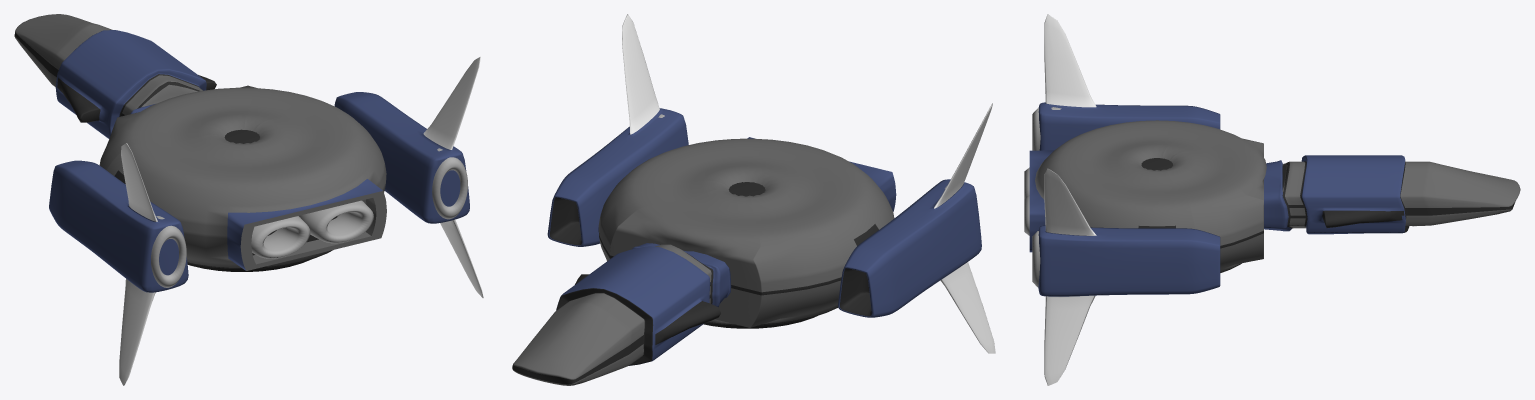
The model's file is nave_boss.fbx.
3 renders of one model, left to right at view 1: azimuth 30°, elevation 25°; view 2: azimuth 150°, elevation 25°; view 3: azimuth 270°, elevation 25°, orthographic. The views are drawn at different scales.
Visible parts, largest first — view 1: pSphere1, polySurface4, pPipe1, pPipe2, pPipe3, pPipe4, pCylinder1; view 2: pSphere1, polySurface4, pCylinder1; view 3: pSphere1, polySurface4.
Boxes of the visible parts, left/top/right/bottom form: pSphere1: left=14, top=14, right=386, bottom=270; polySurface4: left=49, top=56, right=483, bottom=385; pPipe1: left=299, top=200, right=373, bottom=243; pPipe2: left=251, top=216, right=310, bottom=258; pPipe3: left=432, top=148, right=467, bottom=219; pPipe4: left=151, top=216, right=186, bottom=287; pCylinder1: left=187, top=129, right=337, bottom=271; pSphere1: left=512, top=137, right=896, bottom=385; polySurface4: left=547, top=14, right=995, bottom=353; pCylinder1: left=704, top=182, right=816, bottom=328; pSphere1: left=1029, top=120, right=1520, bottom=272; polySurface4: left=1038, top=14, right=1220, bottom=385.
Size of the model in its own units: 8.81 by 5.66 by 11.76.
